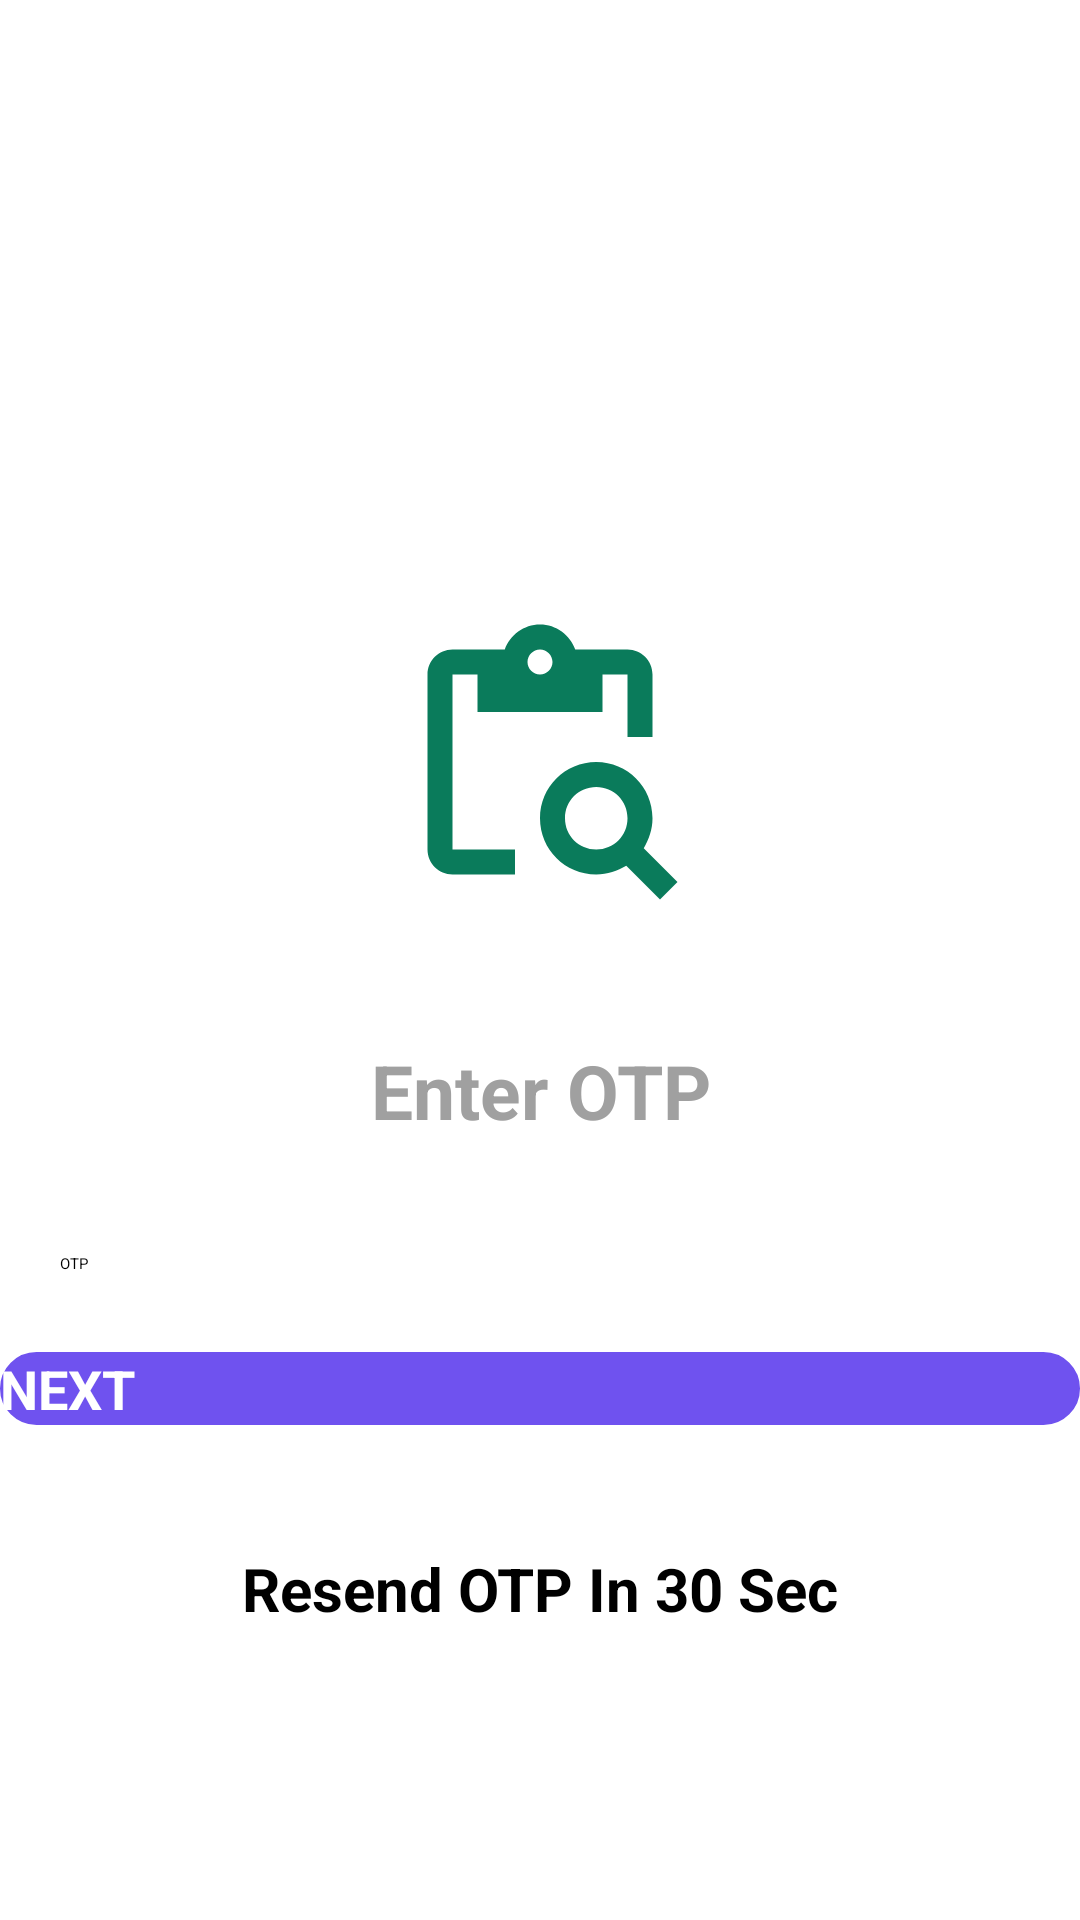

Named icons in this screenshot (1080 x 1920) and their centers, (x=x, y=y):
content paste search: (x=552, y=762)
